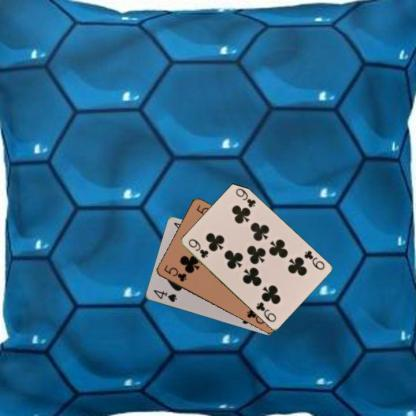4s: (151, 287, 178, 303)
5c: (161, 262, 188, 283)
9c: (185, 236, 210, 259), (301, 248, 326, 271)
